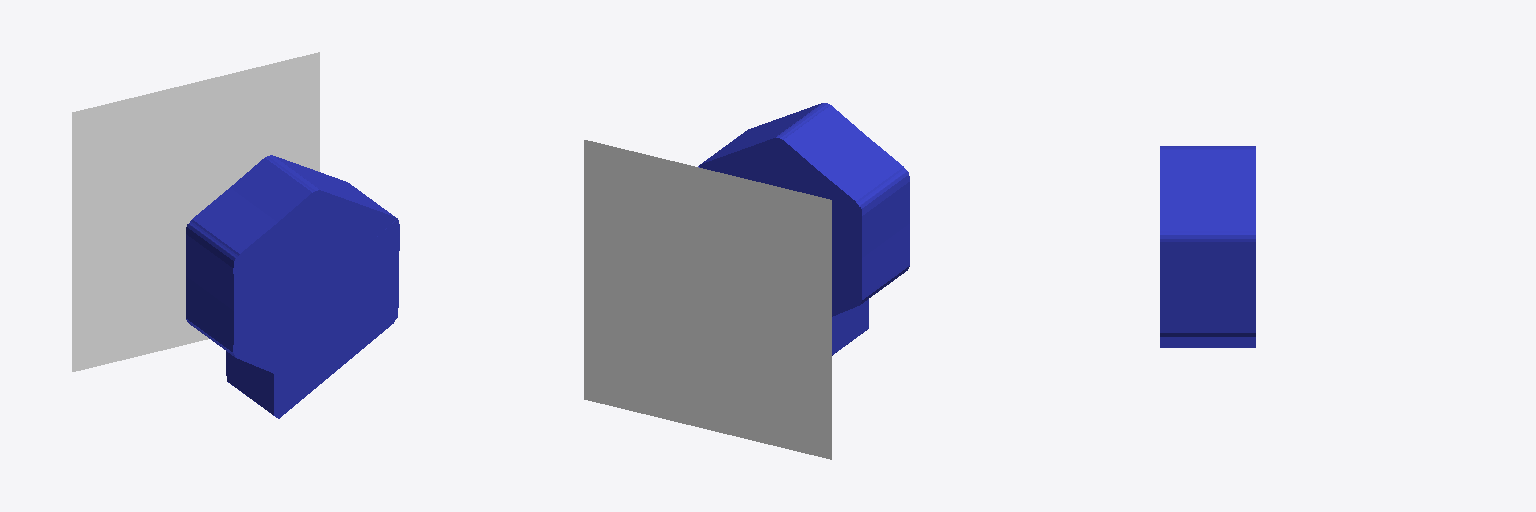
The model's file is dialogflow.obj.
3 renders of one model, left to right at view 1: azimuth 30°, elevation 25°; view 2: azimuth 150°, elevation 25°; view 3: azimuth 270°, elevation 25°, orthographic.
Visible parts, largest first — view 1: root_mesh_id1, root_mesh_id38, root_mesh_id36; view 2: root_mesh_id1, root_mesh_id36, root_mesh_id38; view 3: root_mesh_id38, root_mesh_id36.
Part boxes in pixels (x1,y1,x2,y2): root_mesh_id1: (72, 52, 319, 371); root_mesh_id38: (186, 188, 399, 418); root_mesh_id36: (189, 155, 396, 287); root_mesh_id1: (584, 140, 831, 459); root_mesh_id36: (699, 103, 906, 216); root_mesh_id38: (698, 136, 909, 355); root_mesh_id38: (1160, 235, 1255, 347); root_mesh_id36: (1160, 146, 1255, 234).
Size of the model in its own units: 0.3 by 0.3 by 0.25.